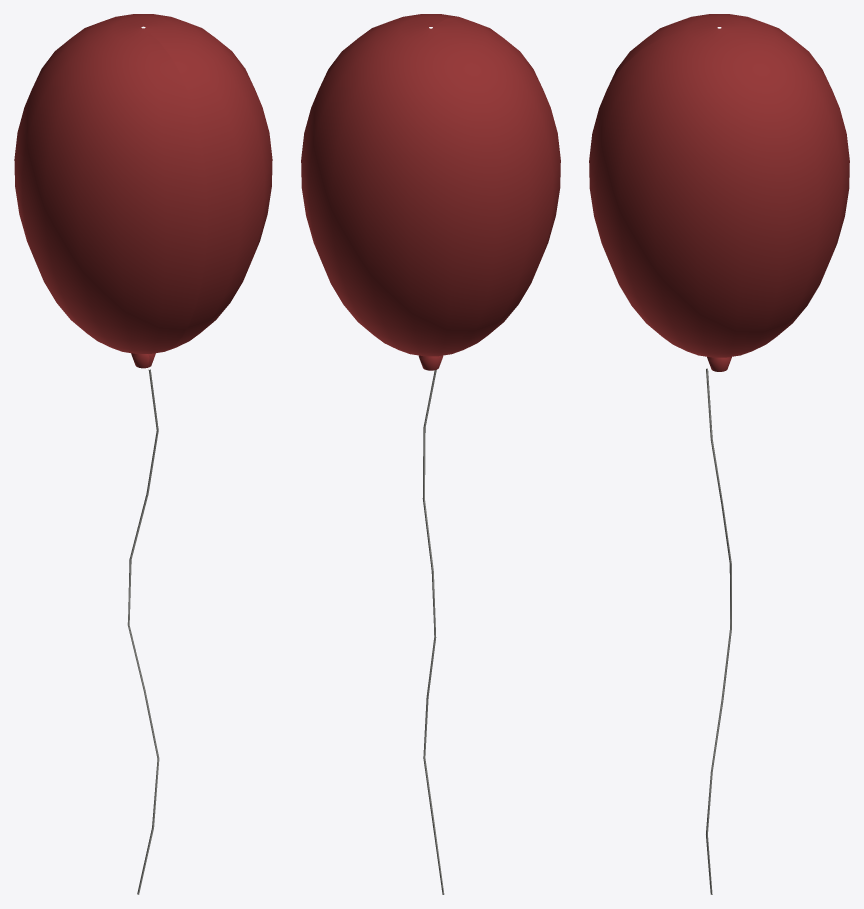
File: balloon.glb
3 views of the same model, side by side, from view 1: azimuth 30°, elevation 25°; view 2: azimuth 150°, elevation 25°; view 3: azimuth 270°, elevation 25° (orthographic).
Parts seen in each view (by area): view 1: balloon; view 2: balloon; view 3: balloon.
Part boxes in pixels (x1=…): balloon: x1=14, y1=14, x2=272, y2=894; balloon: x1=301, y1=14, x2=560, y2=894; balloon: x1=589, y1=14, x2=849, y2=894.
Size of the model in its own units: 0.2459 by 0.9201 by 0.2496.
